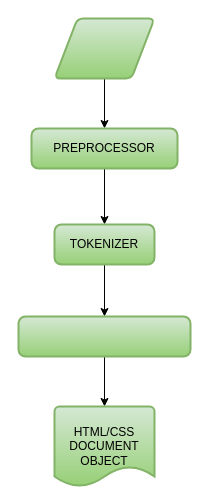
Some shapes in this 208 by 504 pixel diagram are drawn without their labels. The shapes that lost their labels are listed below. From the top down, each one's centre as x and y in pixels, then its label:
At (104,48): "NETWORK".
At (104,336): "TREE CONSTRUCTION".
